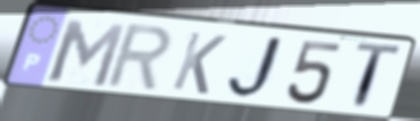5: (285, 39, 345, 107)
J: (224, 35, 292, 102)
K: (168, 29, 230, 98)
M: (45, 16, 129, 90)
R: (100, 21, 176, 95)
T: (352, 40, 405, 116)
